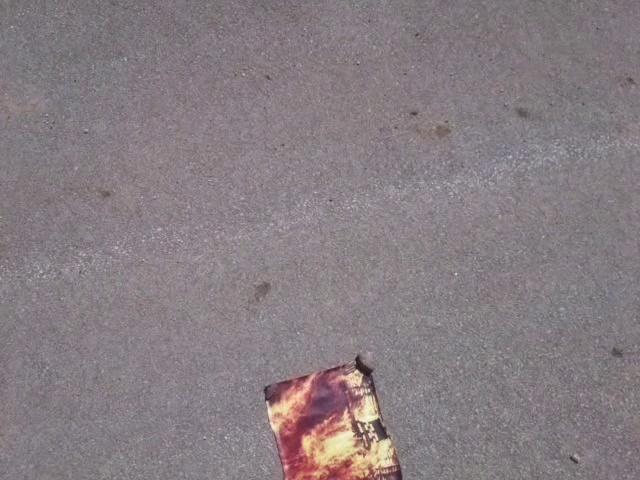fire-poster: (261, 349, 404, 479)
